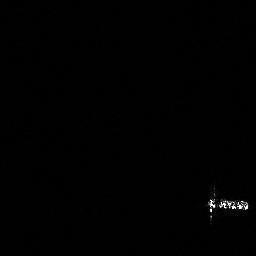ship: (203, 191, 256, 217)
